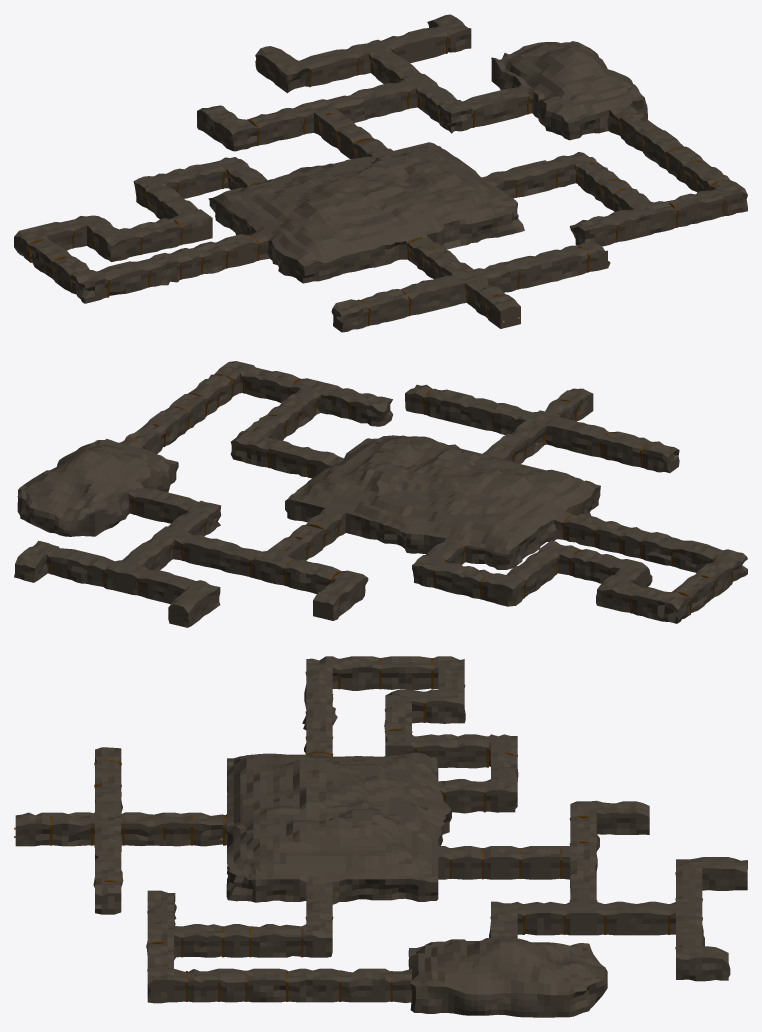
Rendered from Stage.fbx.
3 views of the same model, one above another, from view 1: azimuth 30°, elevation 25°; view 2: azimuth 150°, elevation 25°; view 3: azimuth 270°, elevation 25° (orthographic). The views are drawn at different scales.
Visible parts, largest first — view 1: Plane; view 2: Plane; view 3: Plane.
Boxes of the visible parts, x1,y1,x2,y2 form: Plane: (14,14,747,332); Plane: (14,361,747,627); Plane: (14,656,747,1017).
Size of the model in its own units: 5379 by 430 by 5889.
